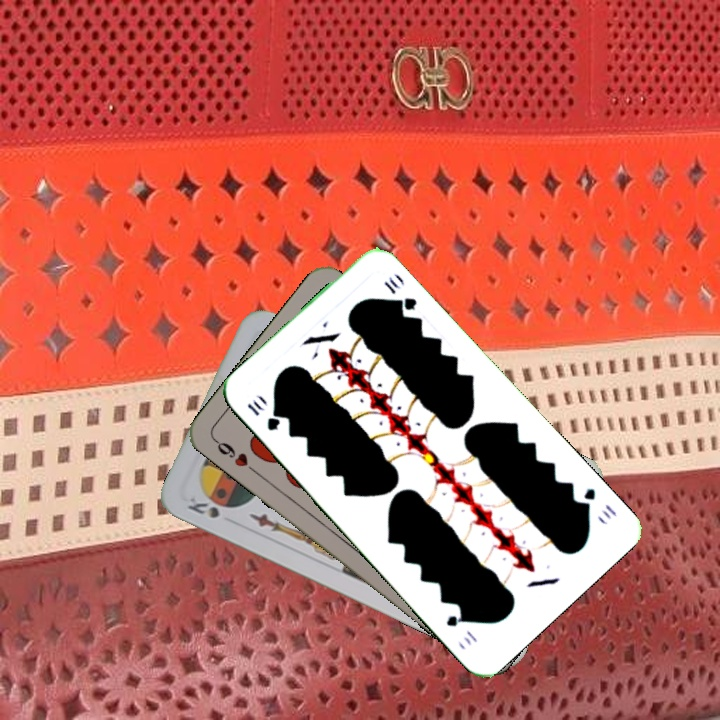G10: (575, 484, 620, 523), (243, 397, 283, 434)
H9: (210, 434, 260, 476)
SK: (182, 492, 222, 521)
